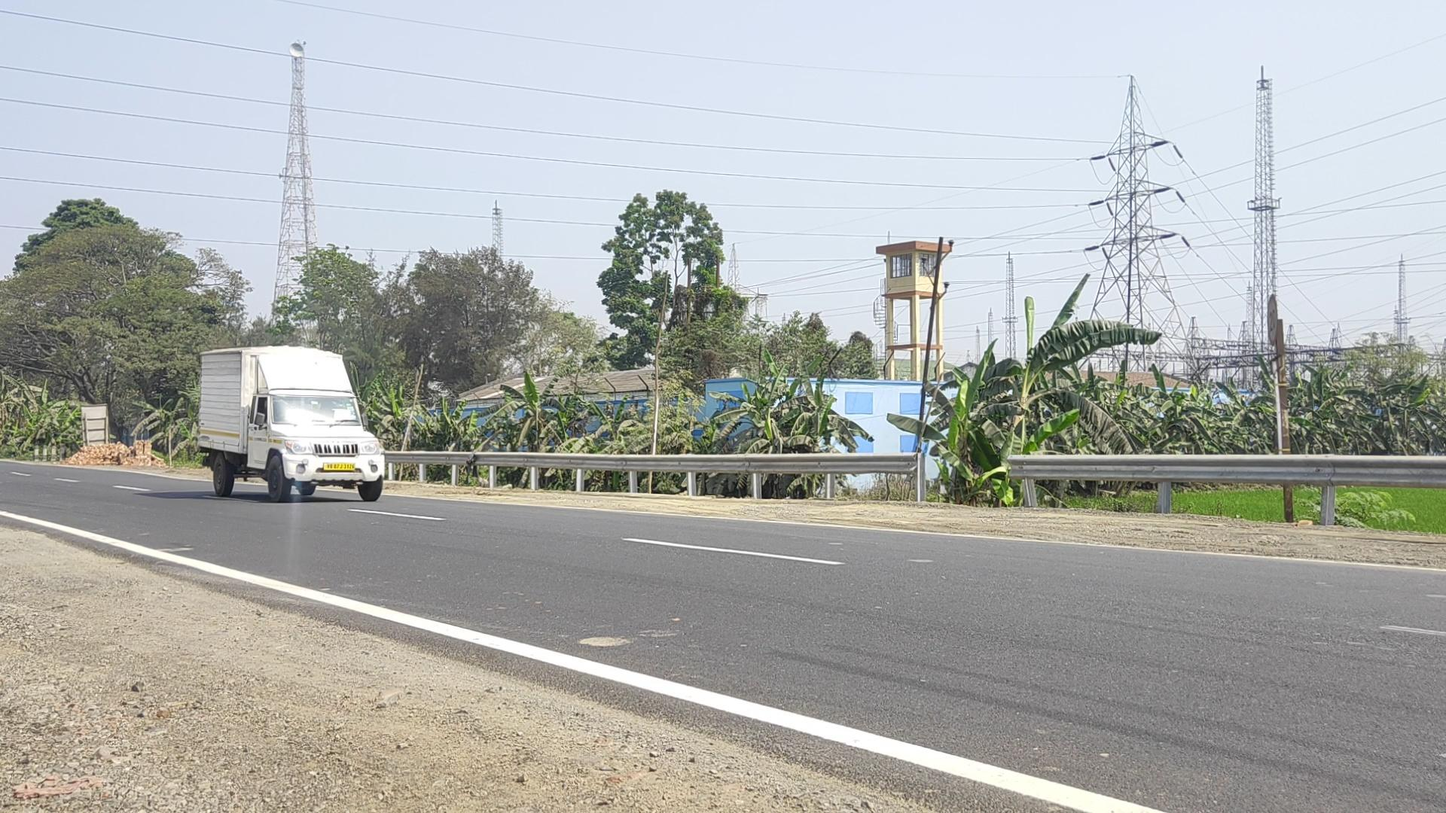van: (199, 345, 385, 504)
